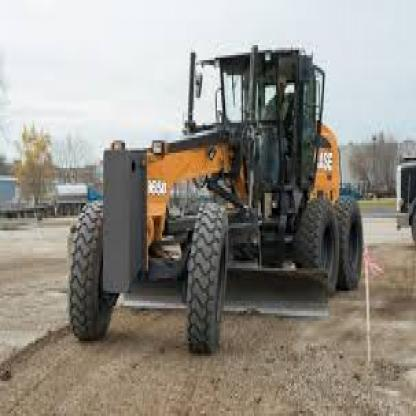bull_dozer/loader/grader: (61, 23, 370, 388)
